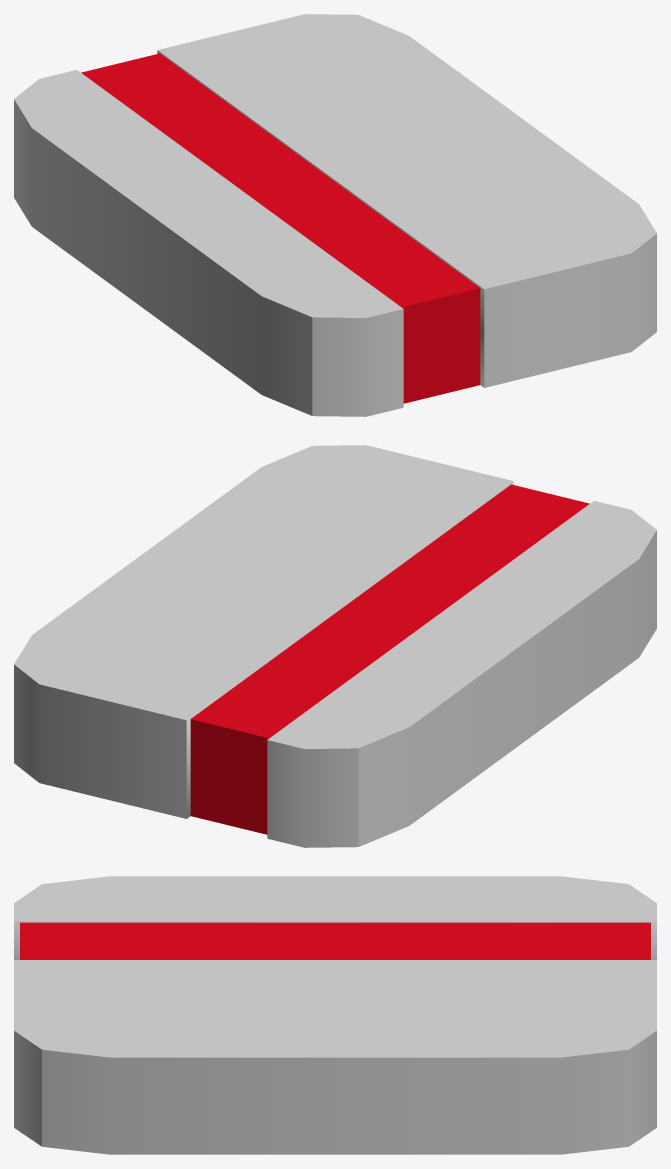
The model's file is Keycard.fbx.
3 views of the same model, one above another, from view 1: azimuth 30°, elevation 25°; view 2: azimuth 150°, elevation 25°; view 3: azimuth 270°, elevation 25° (orthographic).
Parts seen in each view (by area): view 1: Cube; view 2: Cube; view 3: Cube.
Boxes of the visible parts, x1=… form: Cube: x1=14, y1=14, x2=656, y2=416; Cube: x1=14, y1=445, x2=656, y2=847; Cube: x1=14, y1=876, x2=656, y2=1154.
Bounding box in the file's own units: 40 × 10 × 60.
